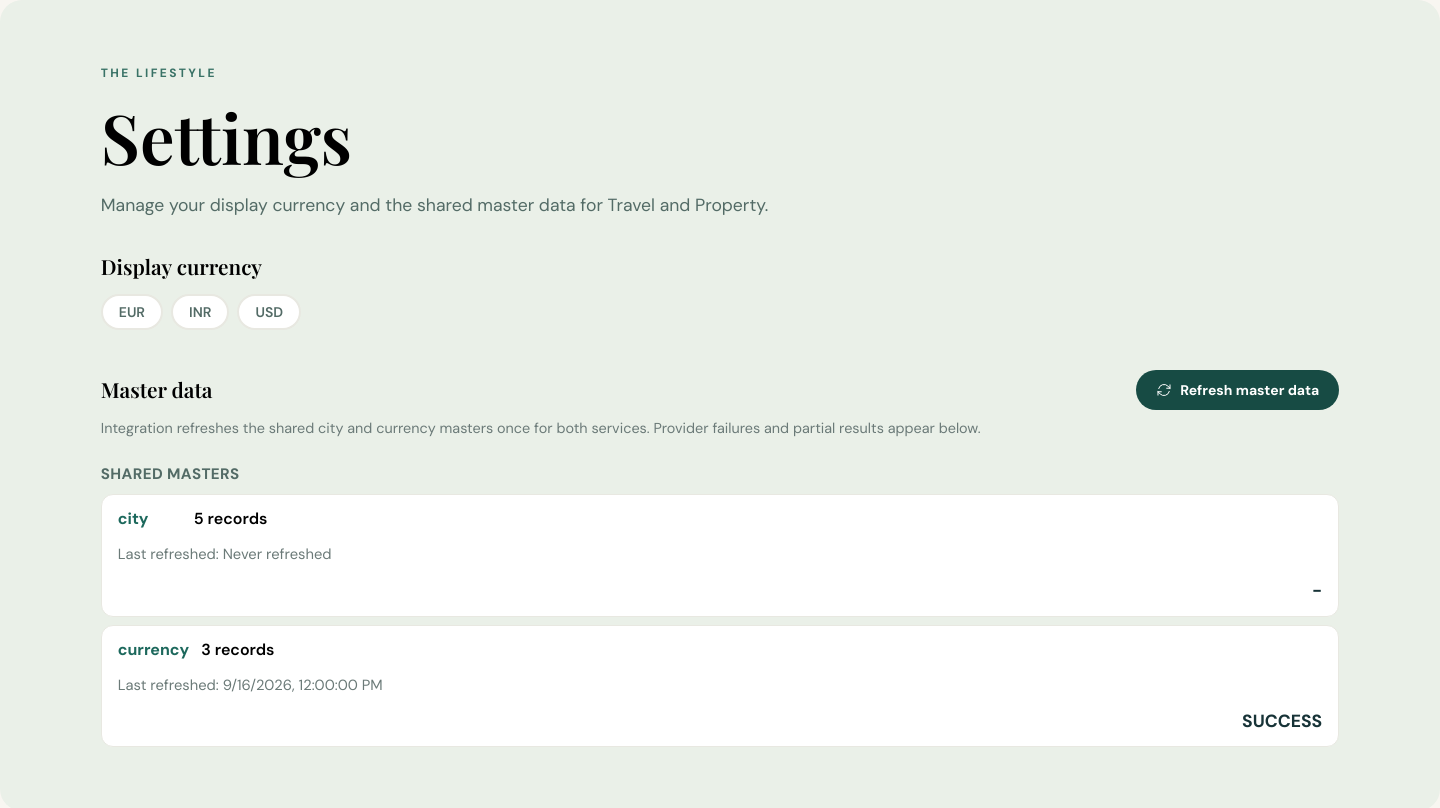
Scenario: Settings shared masters › reports an empty refresh response without claiming success
Expected: the list named "Shared masters" is shown, [101,494,1339,747]
Expected: the button "INR" is shown, [171,294,229,330]
Click the button "Refresh master data" at [1238, 390], box [1136,370,1339,410]
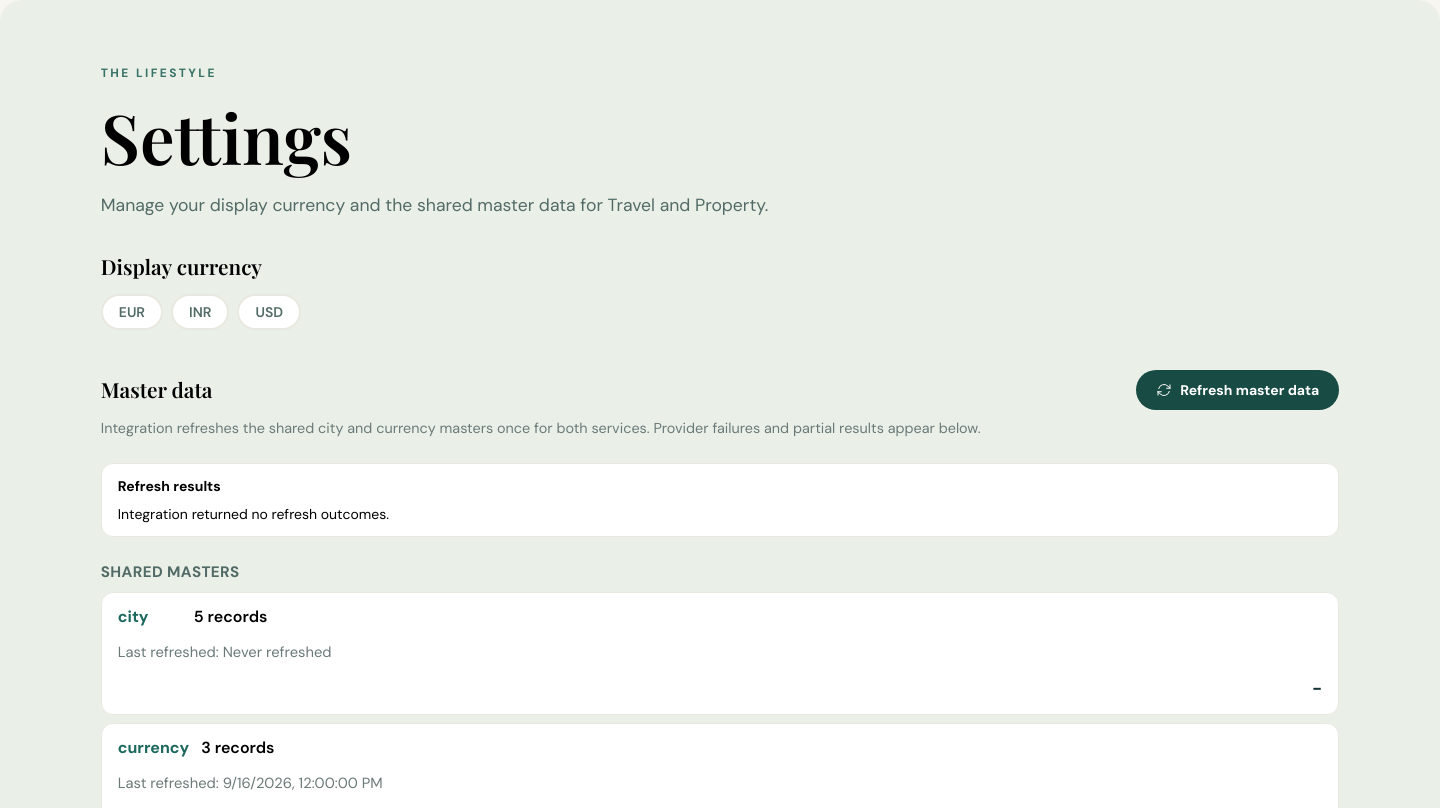
Result: the text "Integration returned no refresh outcomes." is shown at [118,506,389,524]
